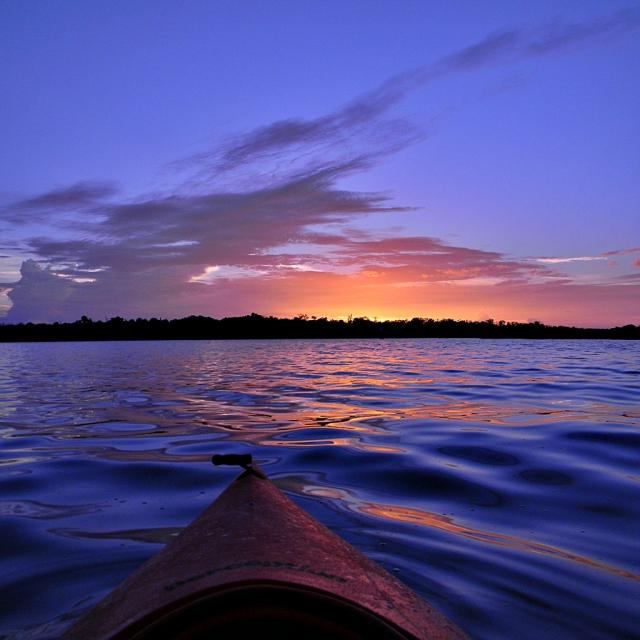Boat: (80, 433, 528, 629)
